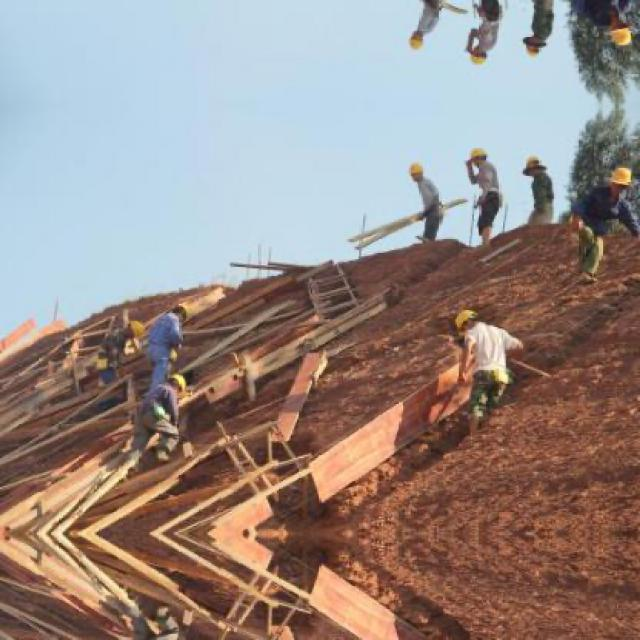helmet: (609, 165, 637, 200), (609, 14, 637, 49), (454, 307, 483, 336), (524, 151, 548, 181), (524, 34, 548, 63), (170, 299, 196, 324), (162, 372, 189, 396), (122, 316, 149, 339), (406, 157, 428, 185), (406, 28, 428, 56), (464, 48, 488, 71), (464, 144, 488, 166)
